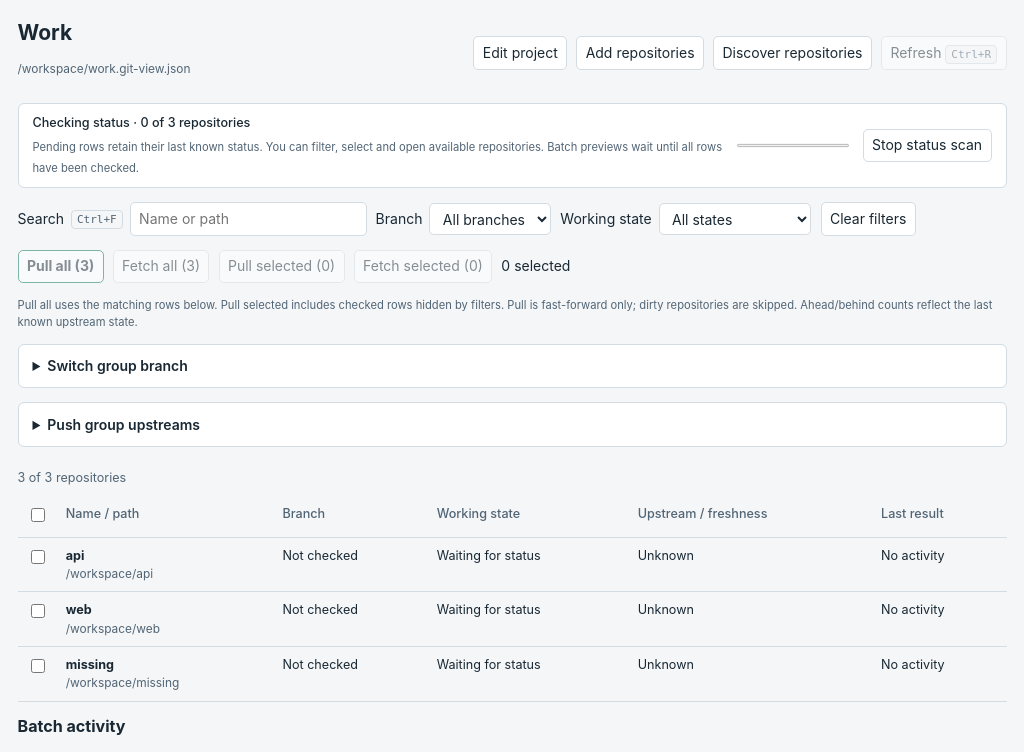
Test case: GroupView renderer › labels initial placeholders honestly and preserves selection when a repository becomes unavailable
Check: the text "Waiting for status" is shown 3 times, box left=428, top=537, right=629, bottom=592; left=428, top=592, right=629, bottom=646; left=428, top=646, right=629, bottom=701
Check: the text "Unavailable" is not shown
What coordinates should you click on to do the following:
click the checkbox named "Select missing"
I would click on:
 (38, 666)
Its box is left=31, top=659, right=45, bottom=673.
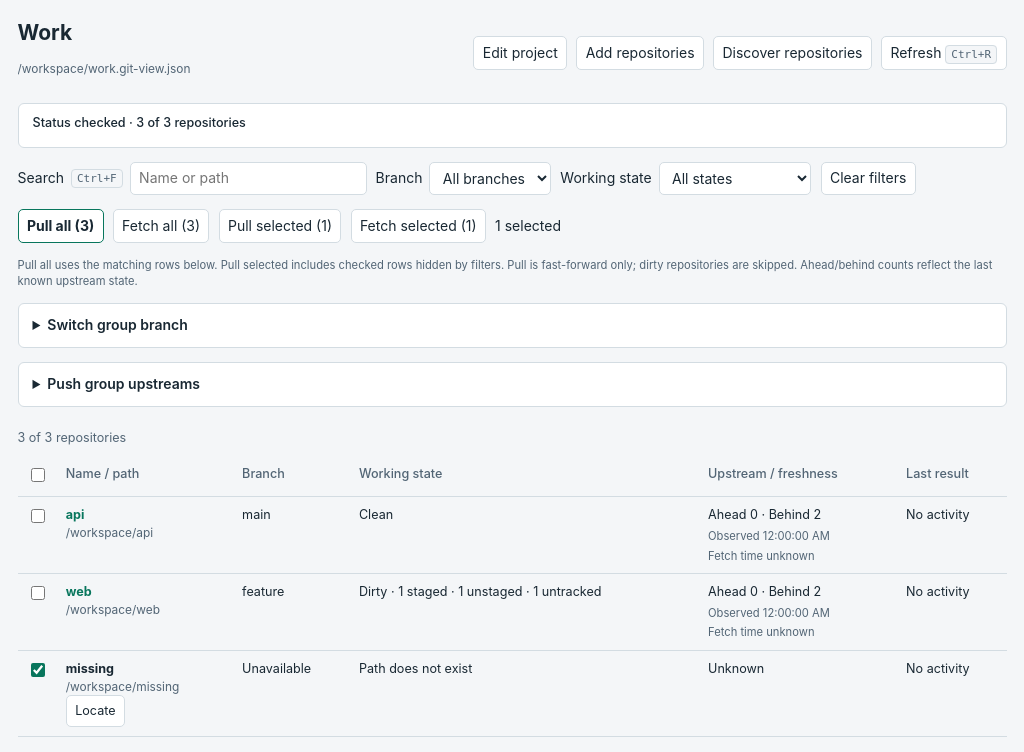
Check: the checkbox named "Select missing" is checked, box left=31, top=663, right=45, bottom=677
Check: the text "Path does not exist" is shown, box left=350, top=650, right=699, bottom=736
